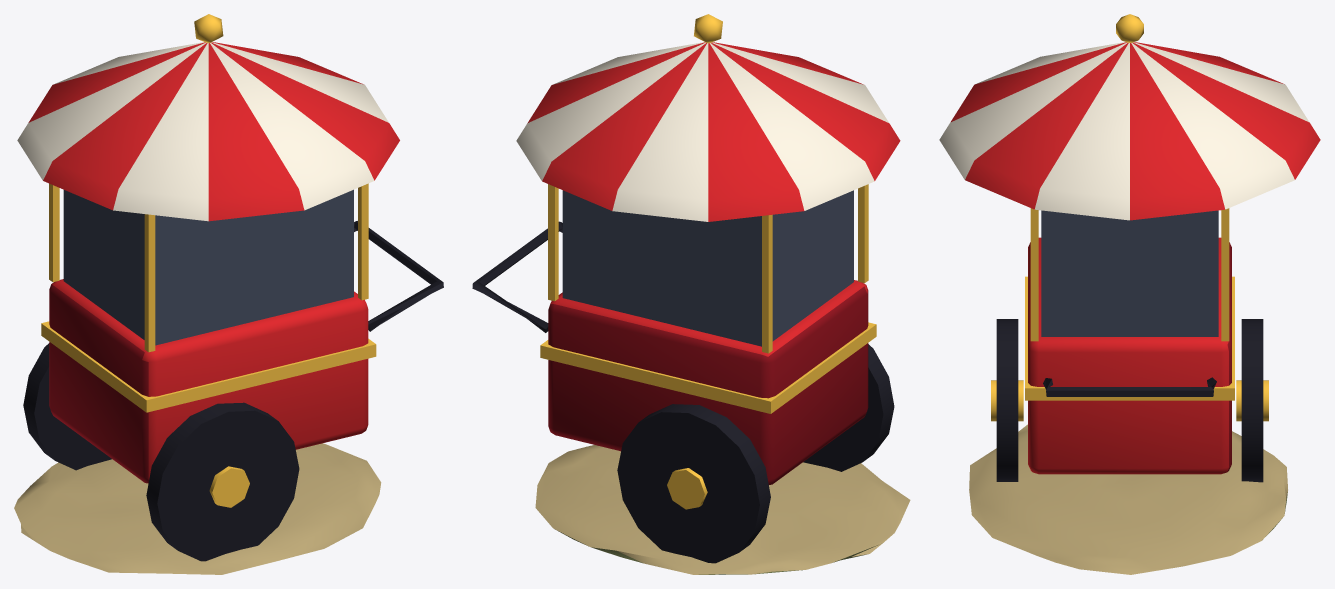
Rendered from PopcornCart.fbx.
The picture shows the model from 3 angles, left to right: view 1: azimuth 30°, elevation 25°; view 2: azimuth 150°, elevation 25°; view 3: azimuth 270°, elevation 25°; orthographic projection.
Visible parts, largest first — view 1: PopcornCart; view 2: PopcornCart; view 3: PopcornCart.
Part boxes in pixels (box(x1,y1,x2,y2)): PopcornCart: box(14, 14, 443, 574); PopcornCart: box(472, 14, 910, 574); PopcornCart: box(939, 14, 1320, 574).
Size of the model in its own units: 1.55 by 1.96 by 1.4.
2 materials, 2 textured.
